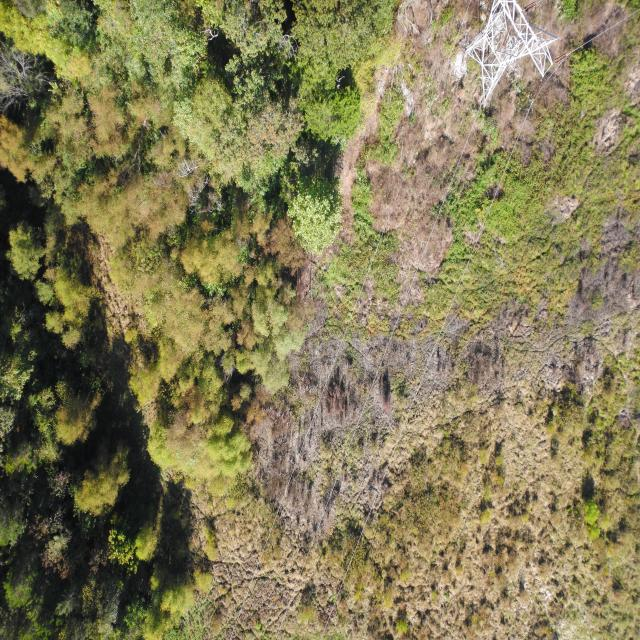Area of Interest: (35, 71, 287, 447), (3, 172, 184, 633), (44, 2, 379, 214)
